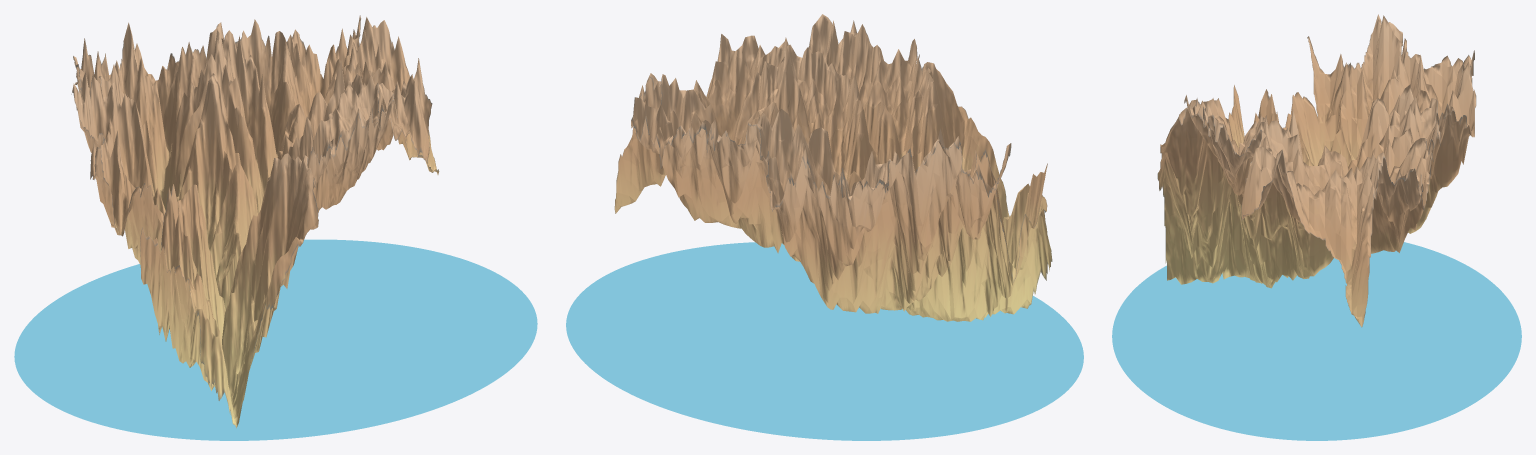
Rendered from AND-terrain.glb.
The picture shows the model from 3 angles, left to right: view 1: azimuth 30°, elevation 25°; view 2: azimuth 150°, elevation 25°; view 3: azimuth 270°, elevation 25°; orthographic projection. The views are drawn at different scales.
Visible parts, largest first — view 1: Relevo com hidrografia; view 2: Relevo com hidrografia; view 3: Relevo com hidrografia.
Part boxes in pixels (left/top/right/bottom): Relevo com hidrografia: left=14, top=15, right=537, bottom=440; Relevo com hidrografia: left=566, top=14, right=1083, bottom=440; Relevo com hidrografia: left=1112, top=14, right=1521, bottom=440.
Size of the model in its own units: 2.05 by 1.16 by 1.7.
2 materials, 1 textured.
